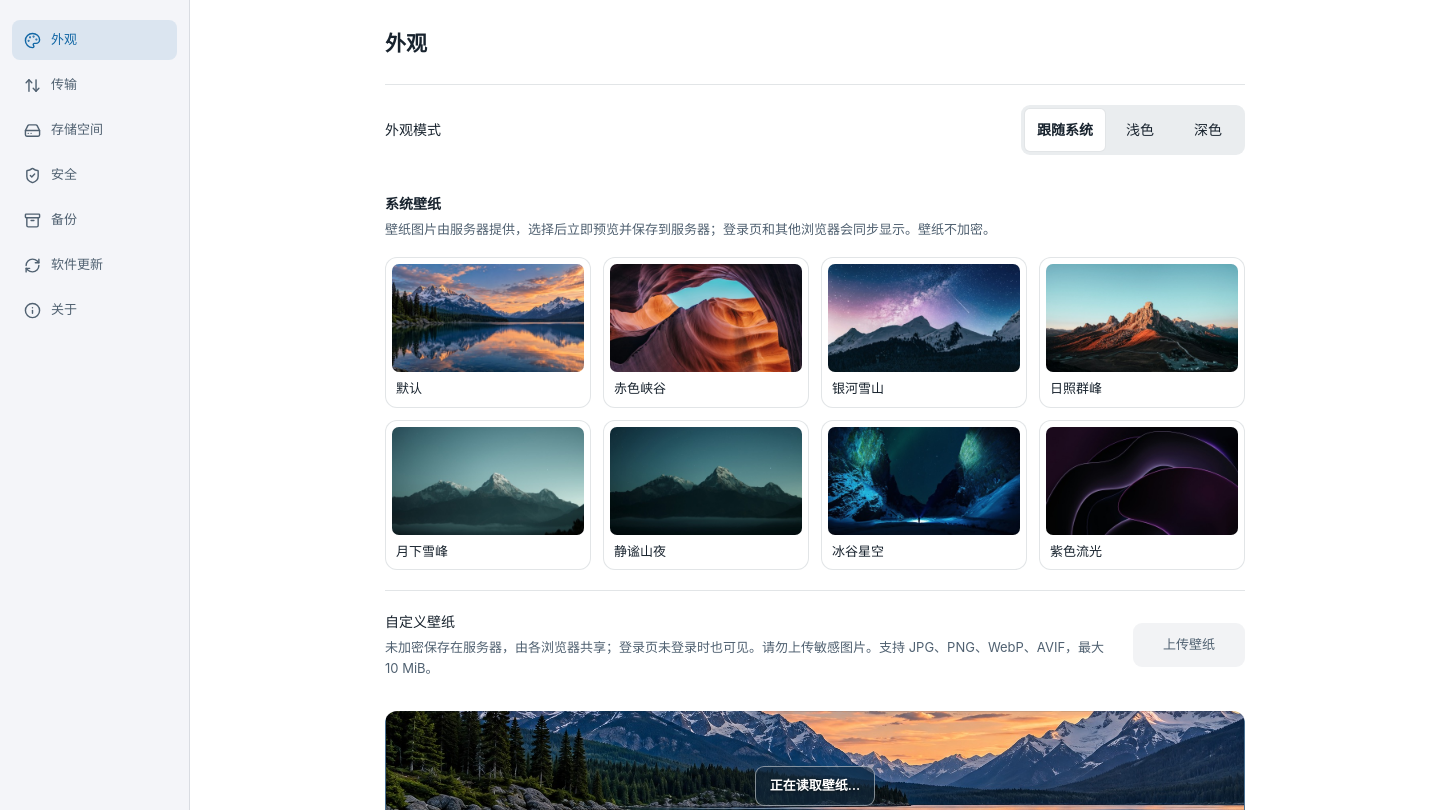
Test case: checks a release, asks for confirmation, and reports the completed server update
Click the button "软件更新" at (94, 265), box [12,245,177,285]
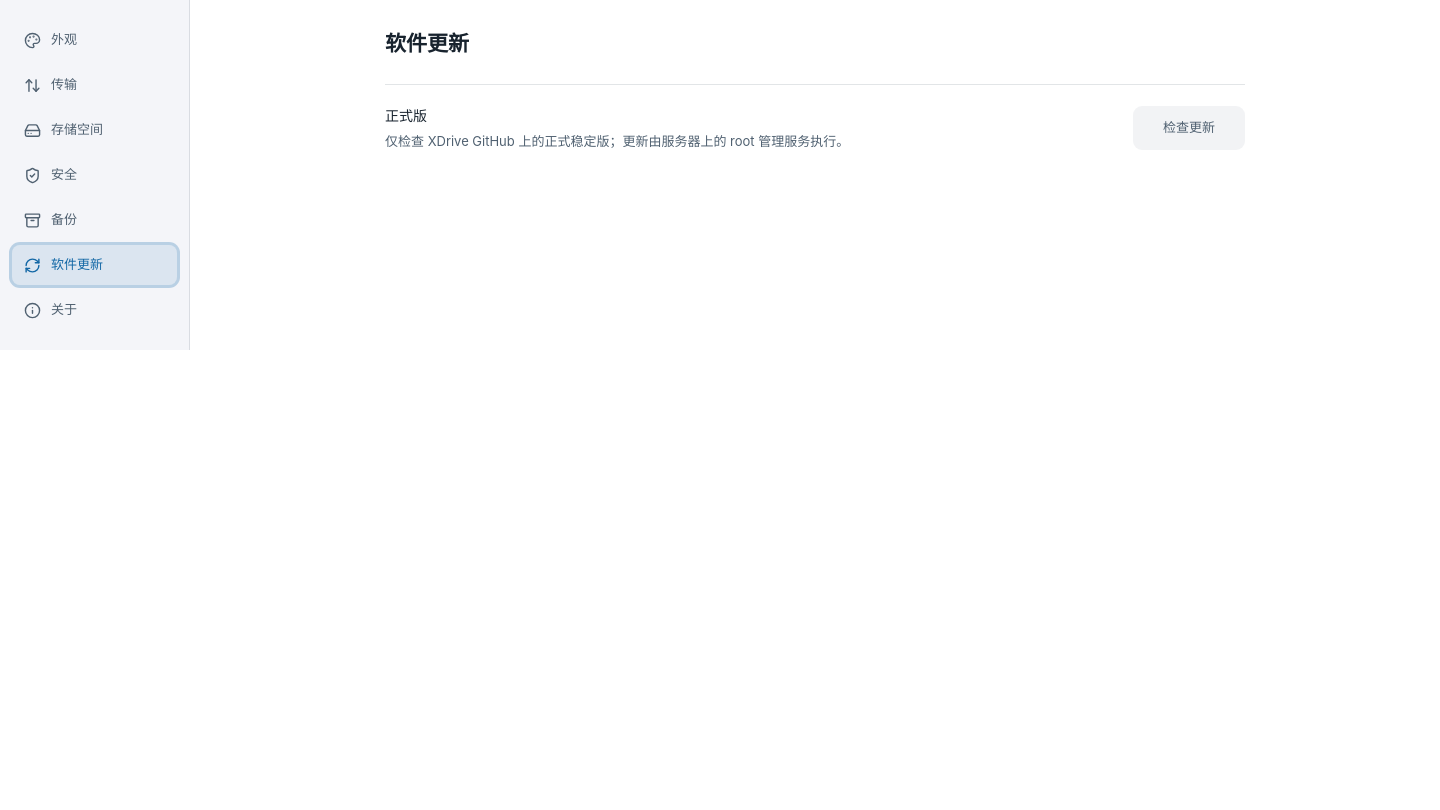
Click the button "检查更新" at (1189, 128), box [1133,106,1245,150]
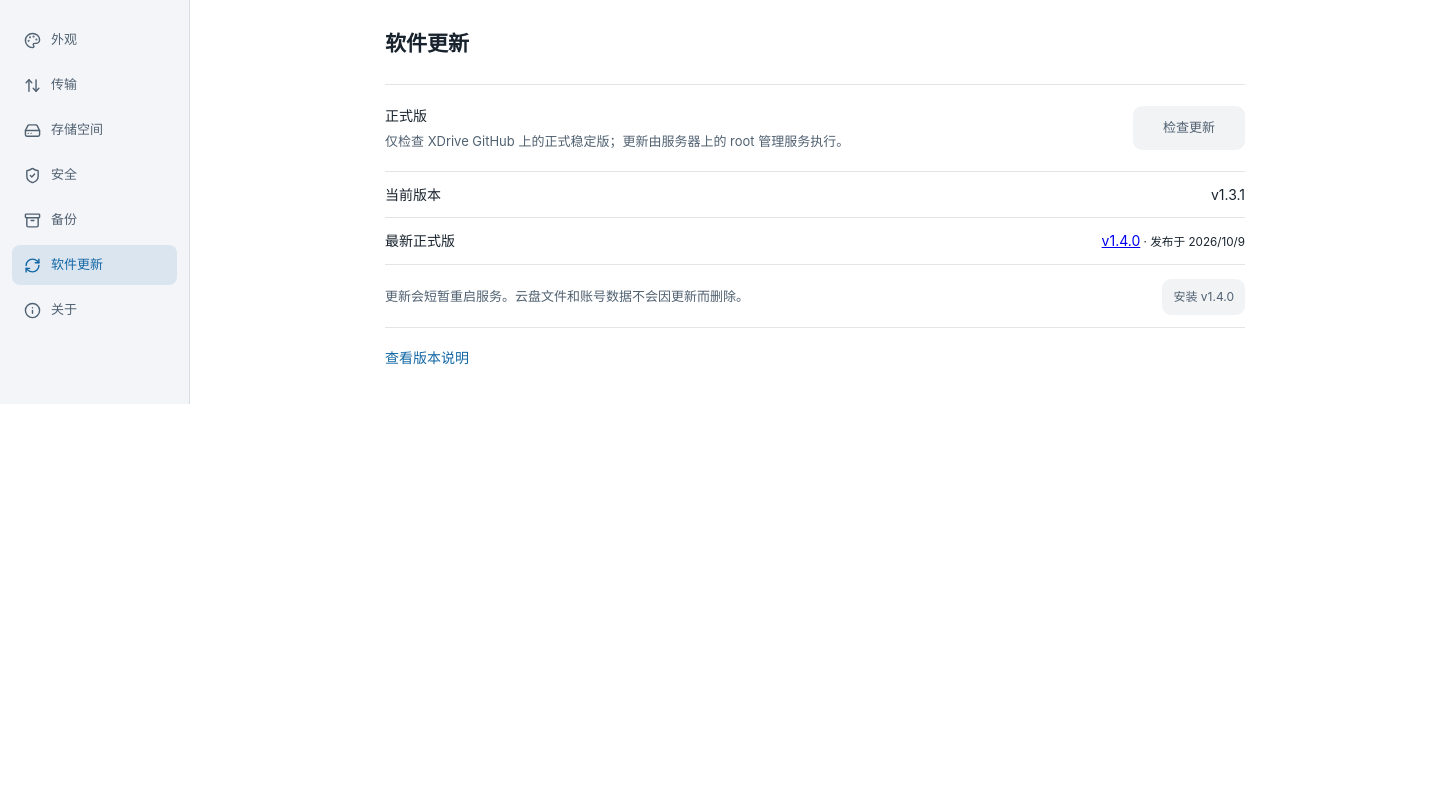
Click the button "安装 v1.4.0" at (1204, 297), box [1162,279,1245,315]
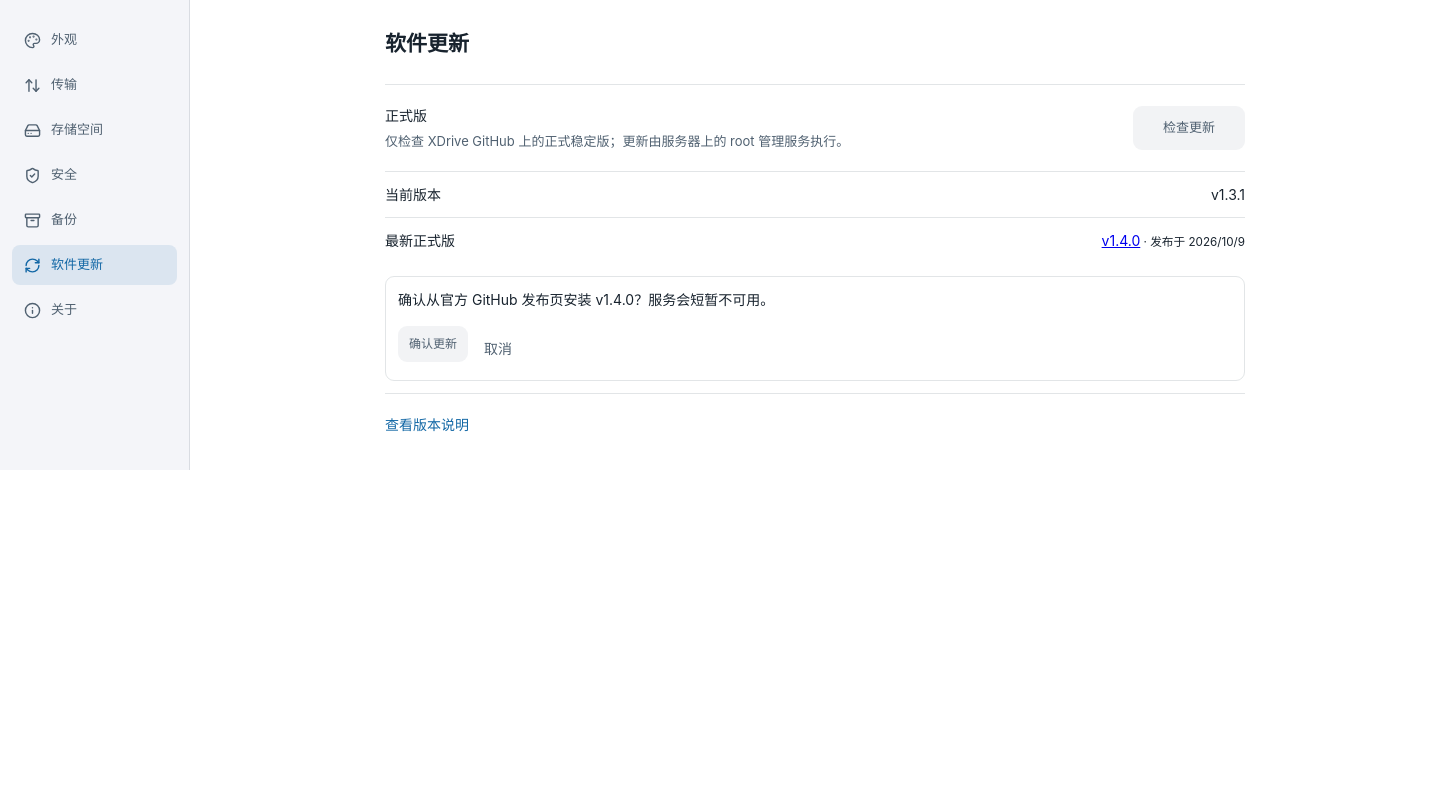
Check: the element named "确认安装更新" is shown, box [385,276,1245,382]
Click the button "确认更新" at (433, 344), box [398,326,468,362]
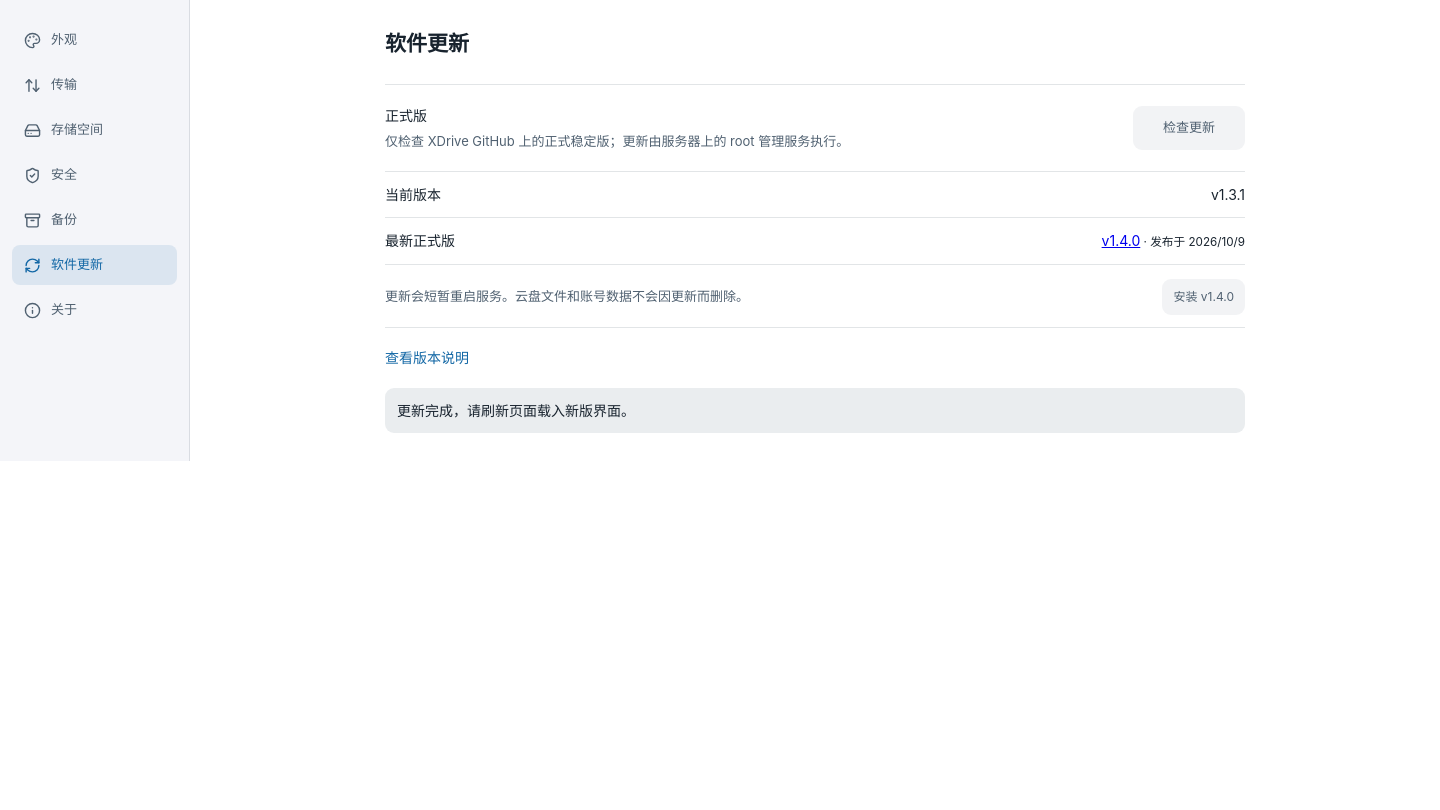
Check: the text "更新完成，请刷新页面载入新版界面。" is shown, box [385,388,1245,434]
